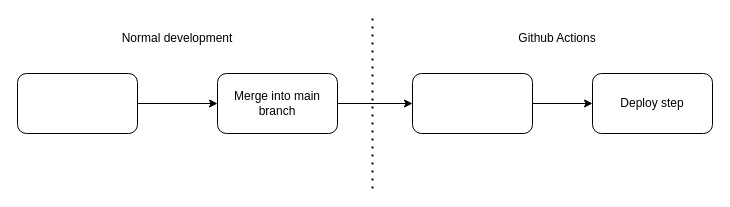
The diagram is 730 pixels wide and 207 high, and some of its shapes have lost their labels. The shapes that lost their labels are listed below. From the top down, each one's centre as x and y in pixels, then its label:
(x=77, y=103): Build Feature
(x=472, y=103): Build release version
